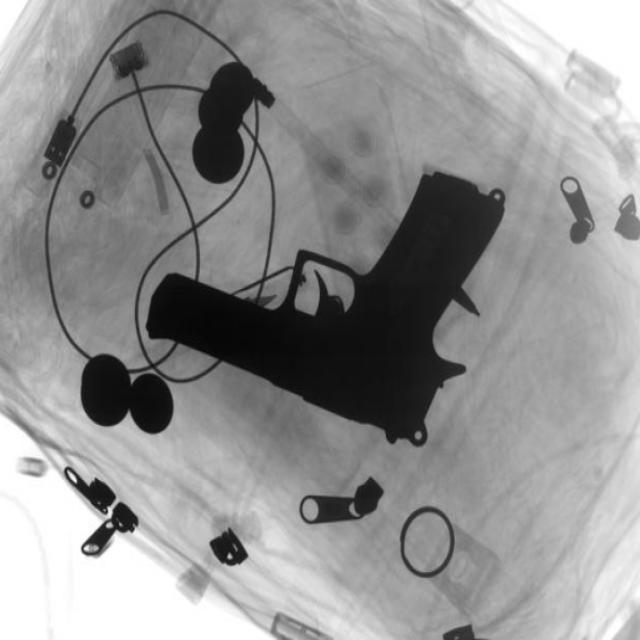GUN: (149, 165, 500, 442)
